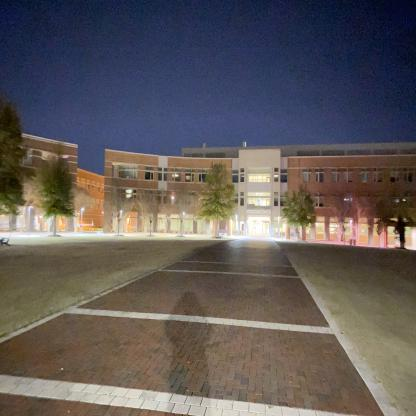eb3: (104, 124, 416, 250)
